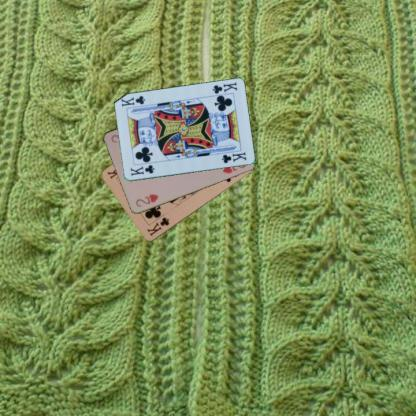2h: (133, 191, 160, 208)
Kc: (144, 215, 170, 237), (210, 80, 238, 95), (128, 162, 155, 177)
